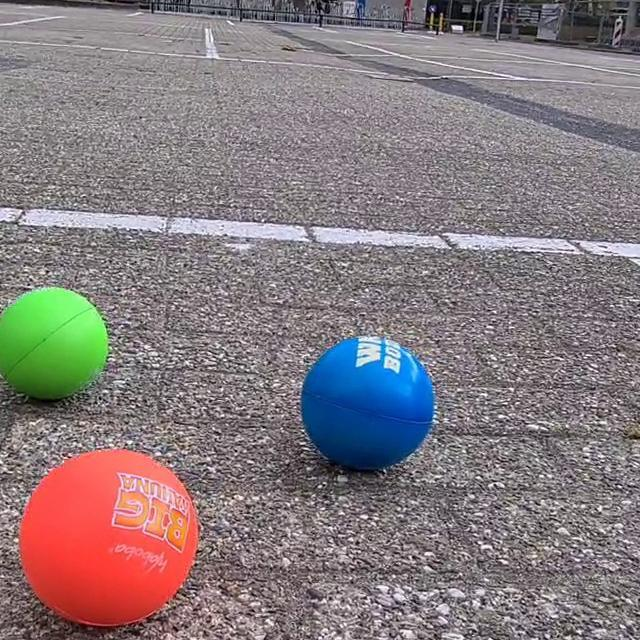ball: (2, 284, 112, 402)
